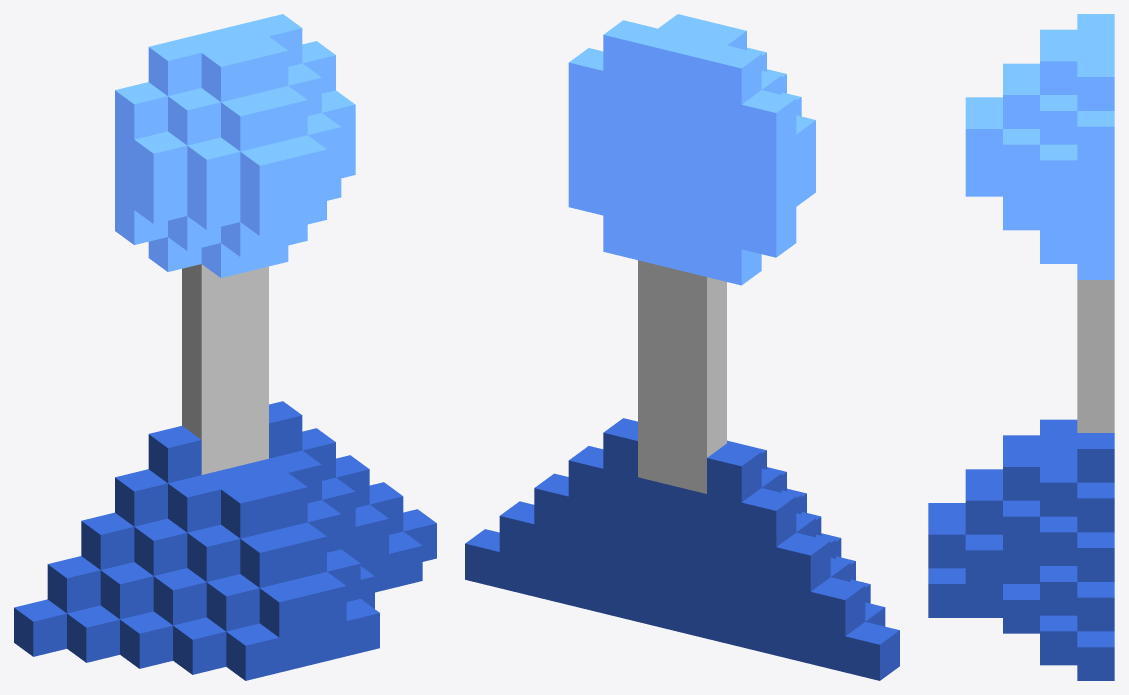
File: Joy.gltf
The picture shows the model from 3 angles, left to right: view 1: azimuth 30°, elevation 25°; view 2: azimuth 150°, elevation 25°; view 3: azimuth 270°, elevation 25°; orthographic projection. The views are drawn at different scales.
Visible parts, largest first — view 1: Merged Objects, Merged Objects 3, Merged Objects 2; view 2: Merged Objects, Merged Objects 3, Merged Objects 2; view 3: Merged Objects, Merged Objects 3, Merged Objects 2.
Boxes of the visible parts, box(x1,y1,x2,y2) form: Merged Objects: box(14, 401, 436, 680); Merged Objects 3: box(115, 14, 355, 277); Merged Objects 2: box(182, 264, 268, 474); Merged Objects: box(465, 418, 899, 680); Merged Objects 3: box(568, 14, 815, 285); Merged Objects 2: box(638, 260, 726, 493); Merged Objects: box(928, 419, 1114, 680); Merged Objects 3: box(965, 14, 1114, 279); Merged Objects 2: box(1077, 280, 1114, 432).
Bounding box in the file's own units: 1.44 × 1.92 × 0.6.
